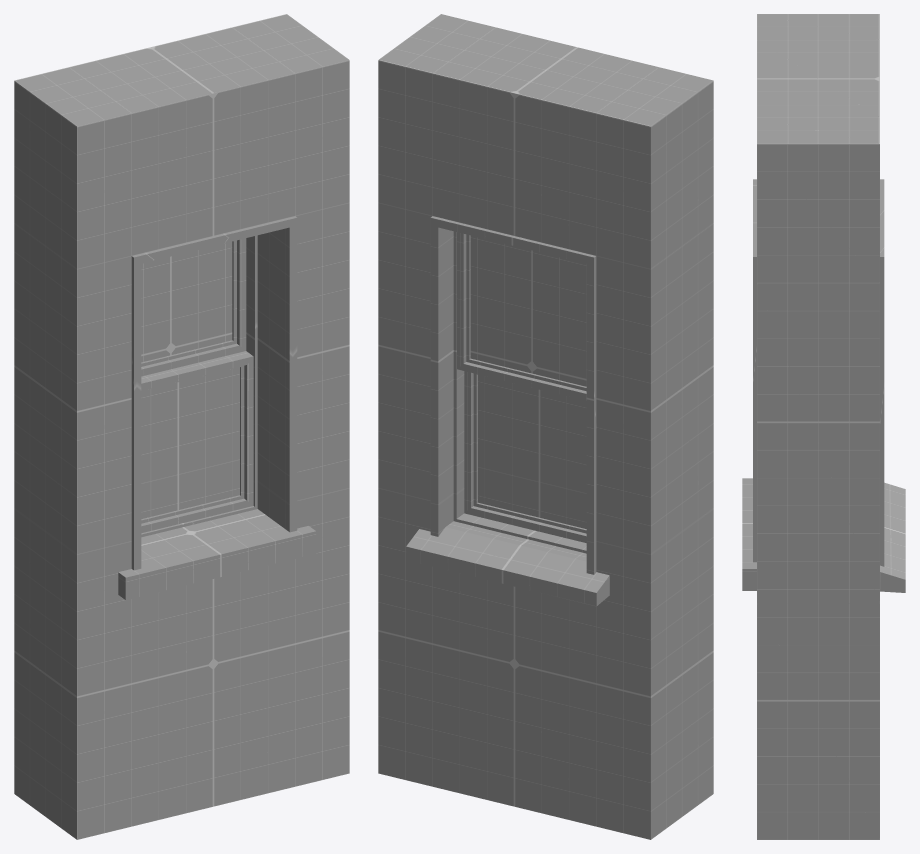
Rendered from Window_1x1.fbx.
3 renders of one model, left to right at view 1: azimuth 30°, elevation 25°; view 2: azimuth 150°, elevation 25°; view 3: azimuth 270°, elevation 25°, orthographic. The views are drawn at different scales.
Visible parts, largest first — view 1: Window_1x1; view 2: Window_1x1; view 3: Window_1x1.
Part boxes in pixels (x1=…): Window_1x1: x1=14, y1=14, x2=349, y2=839; Window_1x1: x1=378, y1=14, x2=713, y2=839; Window_1x1: x1=742, y1=14, x2=905, y2=839.
Size of the model in its own units: 100 by 250 by 53.13.
